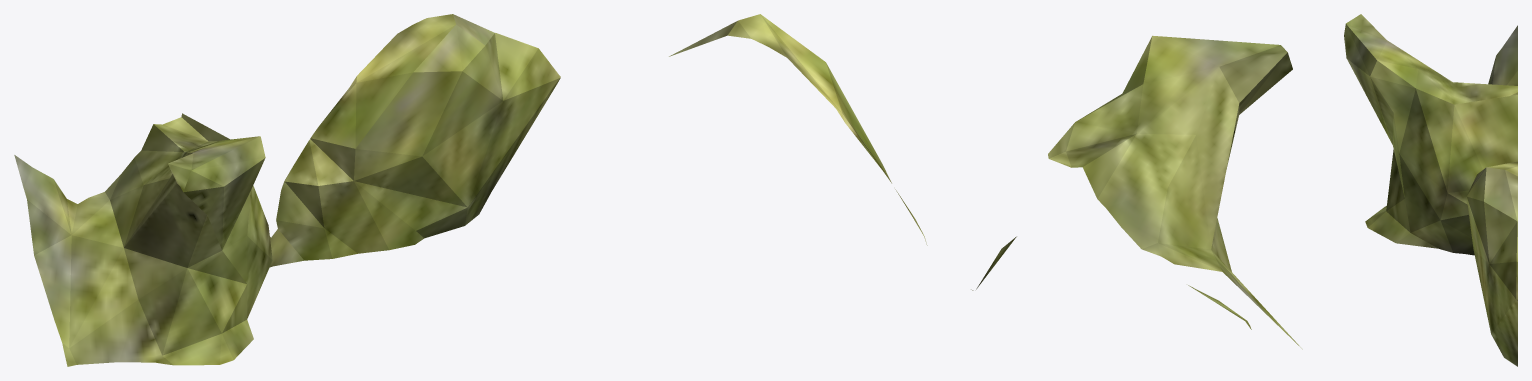
3 renders of one model, left to right at view 1: azimuth 30°, elevation 25°; view 2: azimuth 150°, elevation 25°; view 3: azimuth 270°, elevation 25°, orthographic. The views are drawn at different scales.
Size of the model in its own units: 1.33 by 0.505 by 0.4306.
Materials: 1 (1 with a texture image).
